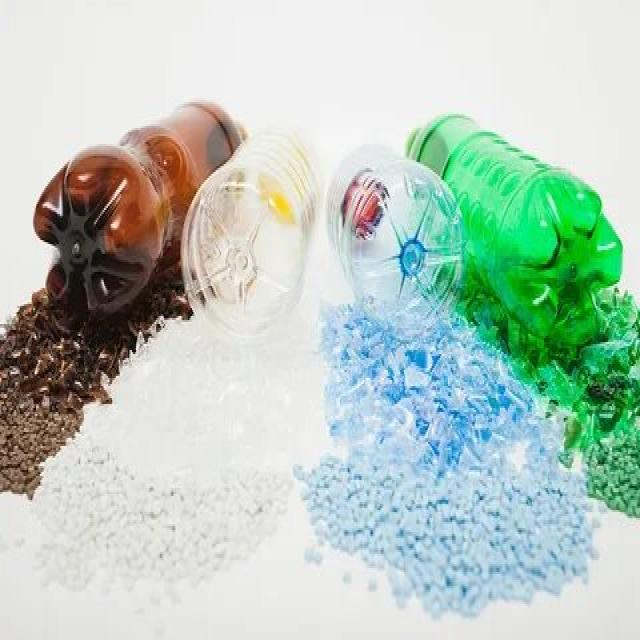blue: (324, 138, 464, 338)
brown: (33, 103, 178, 315)
green: (466, 113, 624, 362)
